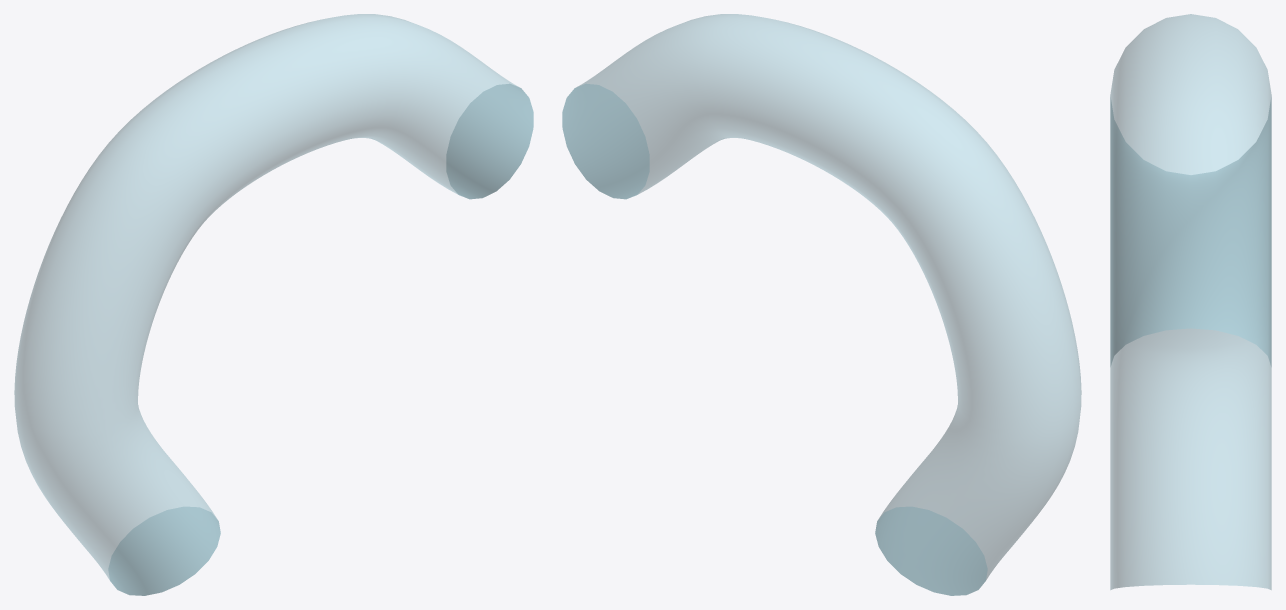
The picture shows the model from 3 angles, left to right: view 1: azimuth 30°, elevation 25°; view 2: azimuth 150°, elevation 25°; view 3: azimuth 270°, elevation 25°; orthographic projection. The views are drawn at different scales.
Visible parts, largest first — view 1: gel-body; view 2: gel-body; view 3: gel-body.
Boxes of the visible parts, x1,y1,x2,y2 form: gel-body: (14, 14, 533, 595); gel-body: (562, 14, 1081, 595); gel-body: (1110, 14, 1271, 589).
Bounding box in the file's own units: 2.04 × 2.01 × 0.44.
